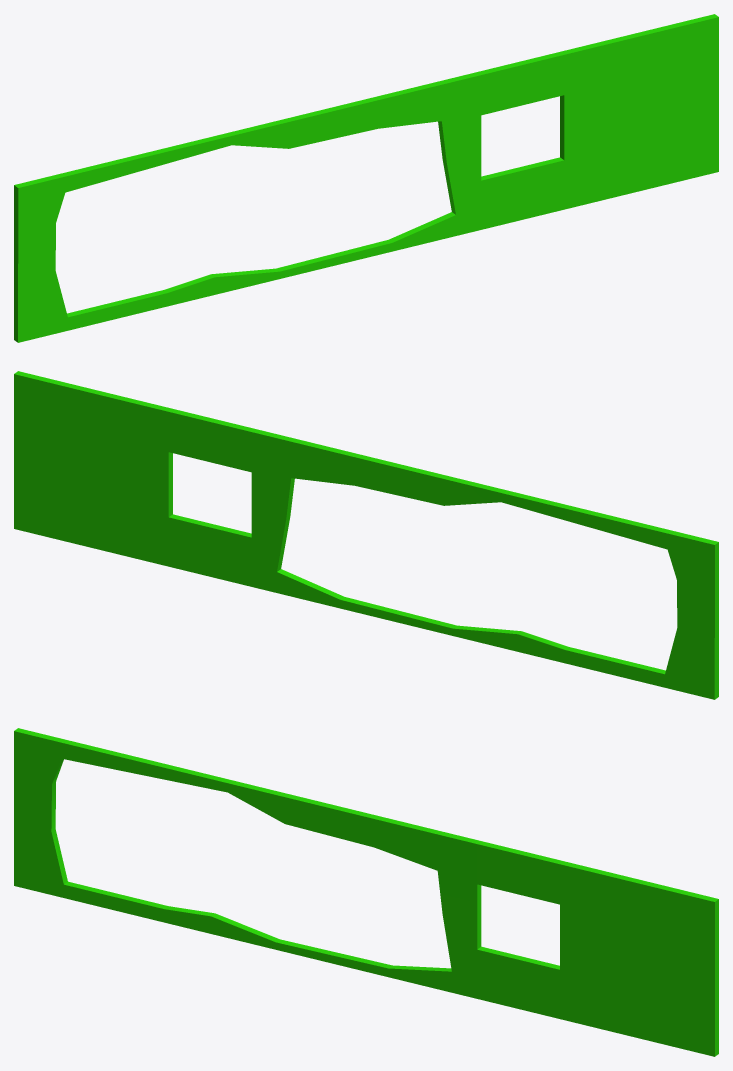
File: BH05B_Wall_04_Break_Collider.fbx
The picture shows the model from 3 angles, top to bottom: view 1: azimuth 30°, elevation 25°; view 2: azimuth 150°, elevation 25°; view 3: azimuth 330°, elevation 25°; orthographic projection.
Visible parts, largest first — view 1: BH05B_Wall_04_Break_Collider; view 2: BH05B_Wall_04_Break_Collider; view 3: BH05B_Wall_04_Break_Collider.
Boxes of the visible parts, box(x1,y1,x2,y2) form: BH05B_Wall_04_Break_Collider: box(14, 14, 718, 342); BH05B_Wall_04_Break_Collider: box(14, 371, 718, 699); BH05B_Wall_04_Break_Collider: box(14, 728, 718, 1056).
Size of the model in its own units: 1391 by 294 by 14.39.
